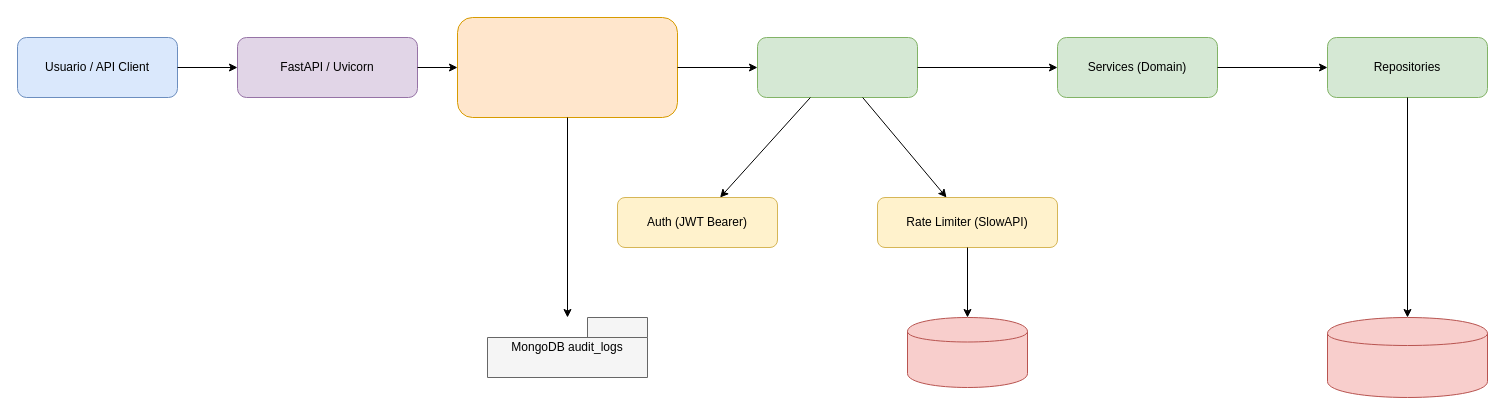
Some shapes in this 1505 by 415 pixel diagram are drawn without their labels. Each missing label, with the centre of its shape:
"Middlewares Security / CORS / GZip / AccessLog" belongs at pixel 567 67.
"MongoDB" belongs at pixel 1407 357.
"Redis" belongs at pixel 967 352.
"Routers /api/v1/*" belongs at pixel 837 67.
